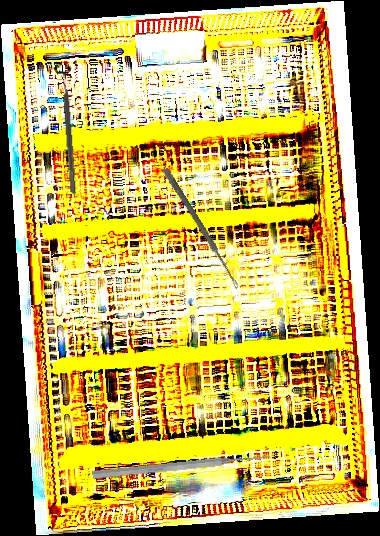Fixation Ring: (52, 64, 83, 195)
Pusher: (91, 450, 272, 482)
Surgical Spoon: (161, 167, 242, 290)
